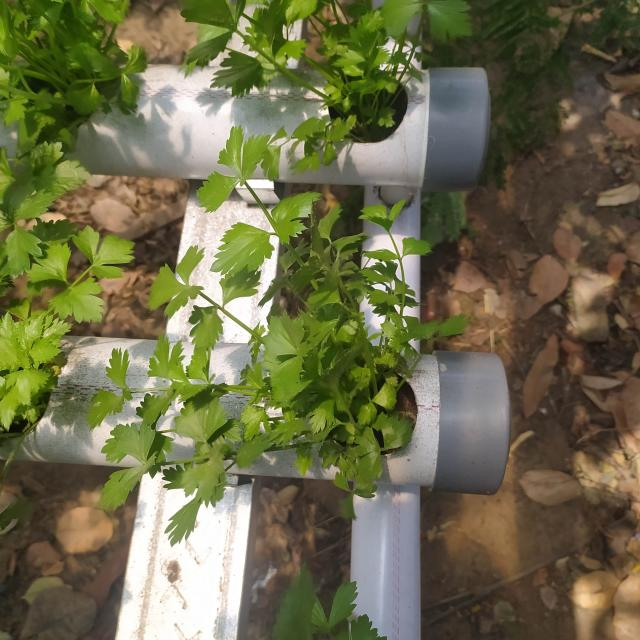Wet Waste: (186, 222, 510, 523)
